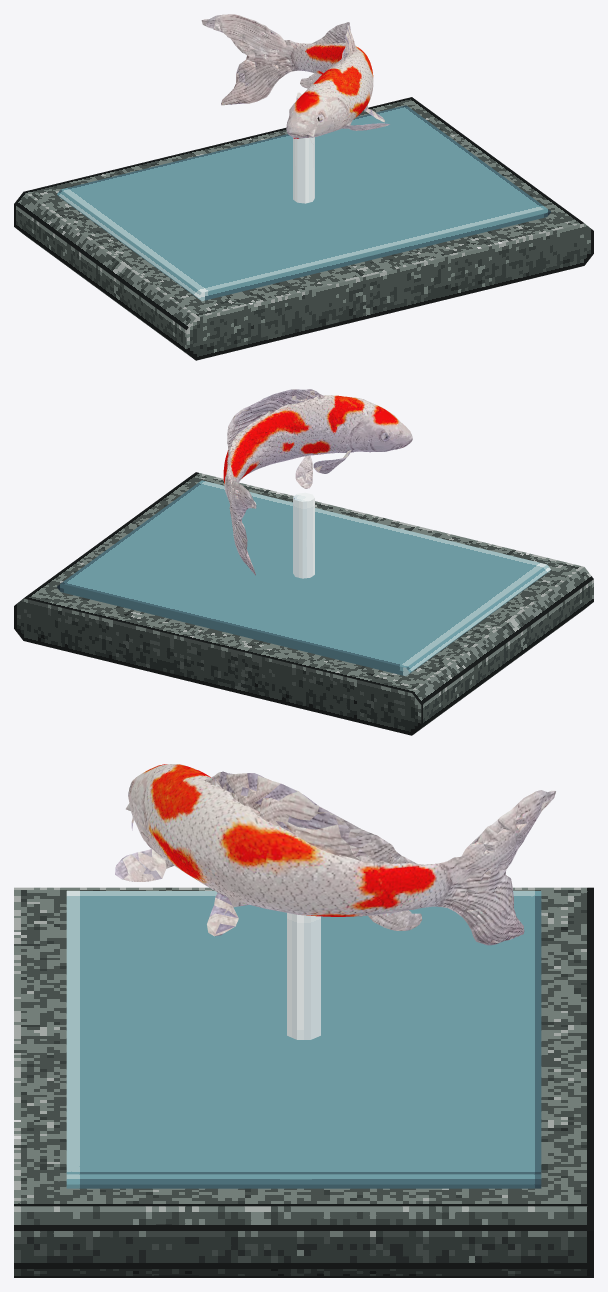
File: koi.glb
3 views of the same model, one above another, from view 1: azimuth 30°, elevation 25°; view 2: azimuth 150°, elevation 25°; view 3: azimuth 270°, elevation 25° (orthographic). The views are drawn at different scales.
Parts seen in each view (by area): view 1: pond, base, model_m, rod; view 2: pond, base, model_m, rod; view 3: pond, base, model_m, rod.
Part boxes in pixels (x1,y1,x2,y2): pond: [57, 105, 550, 301]; base: [14, 97, 593, 360]; model_m: [201, 14, 389, 142]; rod: [293, 137, 314, 203]; pond: [57, 480, 550, 676]; base: [14, 472, 593, 735]; model_m: [223, 389, 412, 575]; rod: [293, 492, 314, 578]; pond: [66, 891, 541, 1188]; base: [14, 887, 593, 1277]; model_m: [115, 764, 555, 945]; rod: [287, 913, 320, 1039].
Size of the model in its own units: 30 by 15.39 by 22.
Materials: 2 (2 with a texture image).
